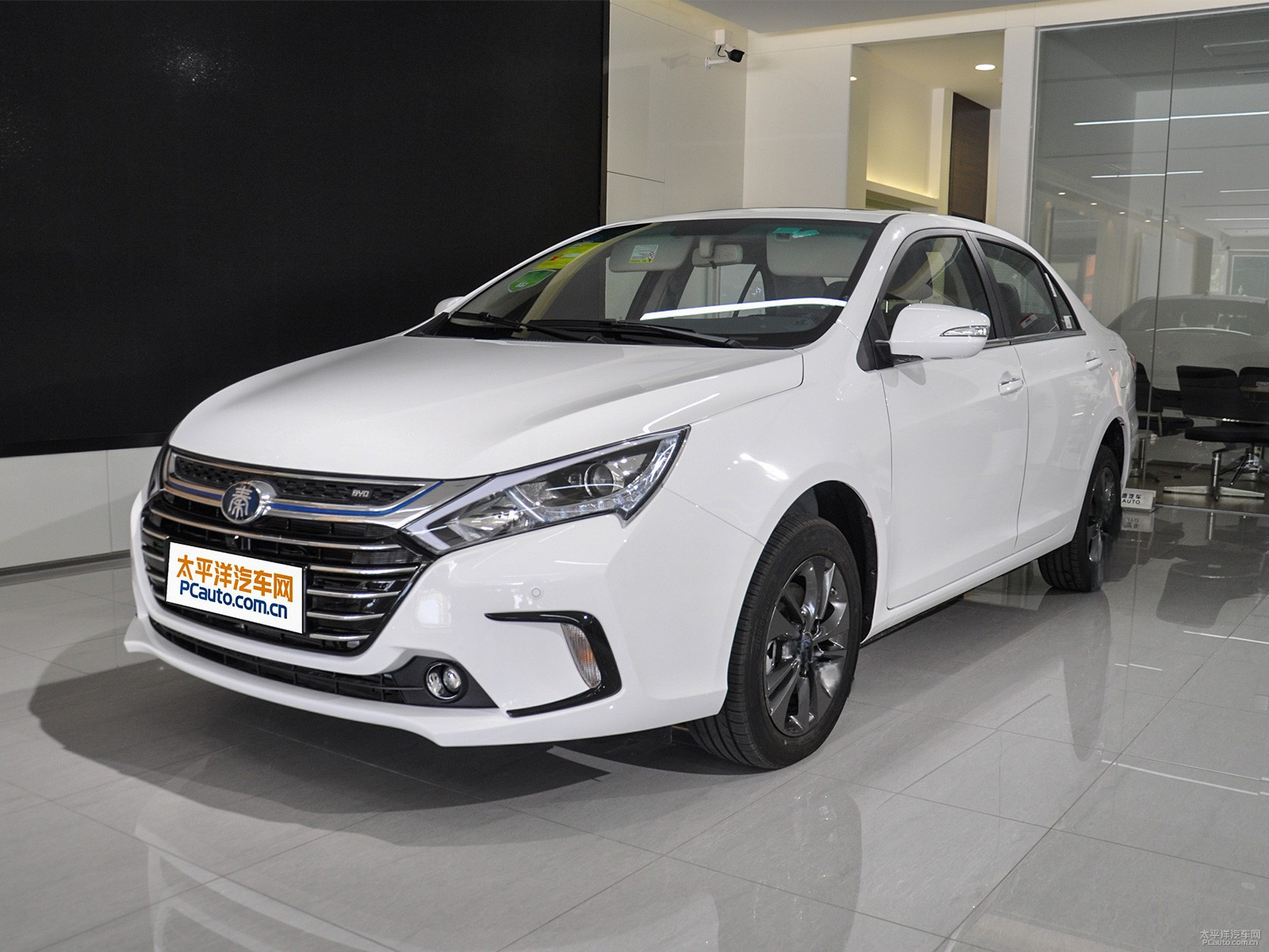BYD Qin: (223, 483, 259, 520)
